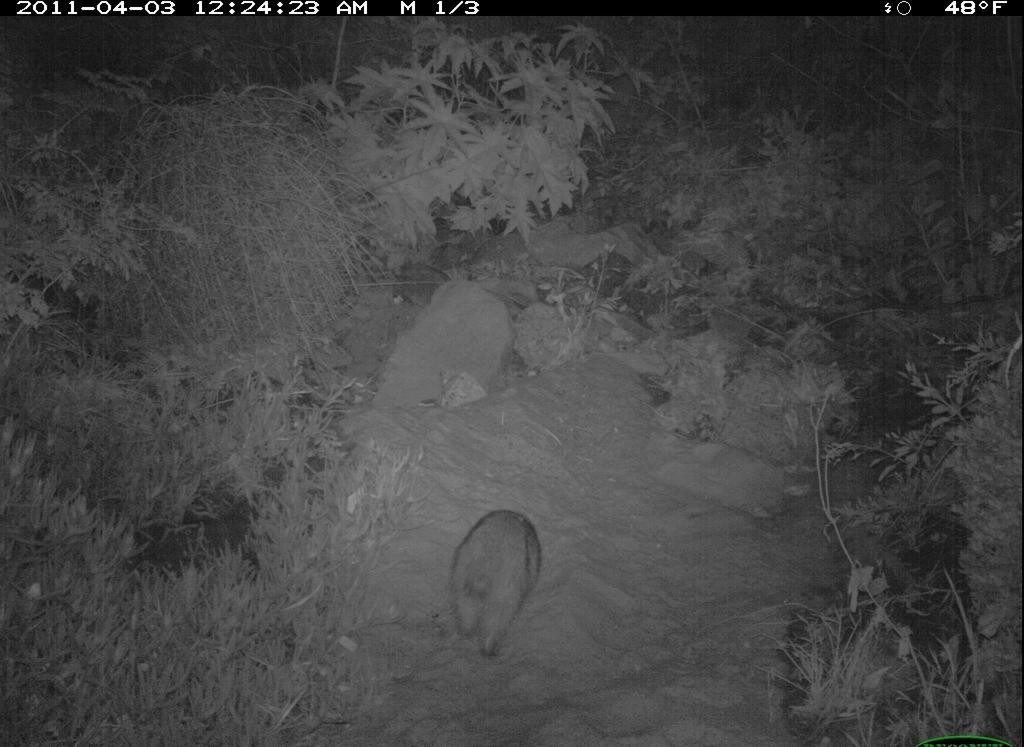raccoon: (442, 502, 555, 671)
